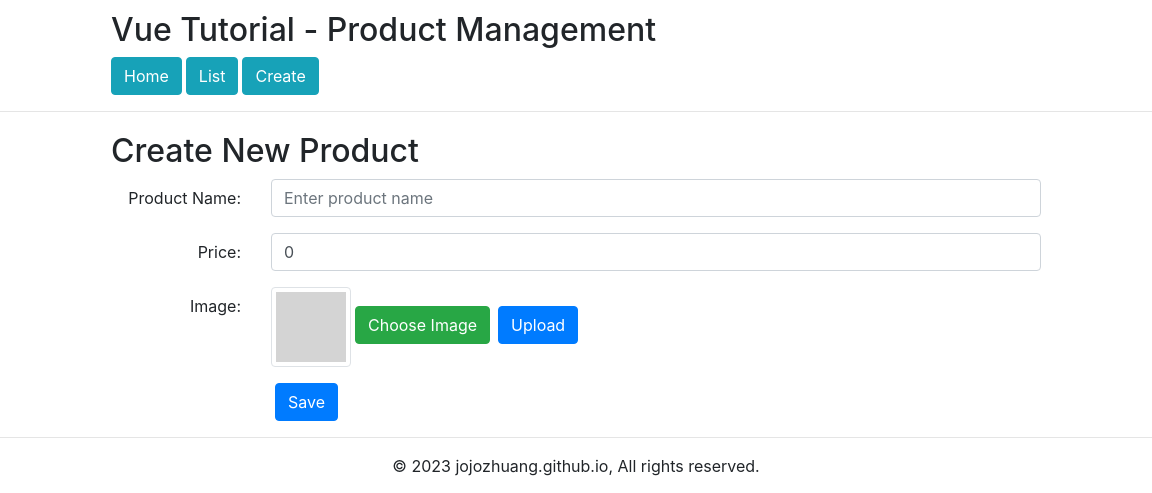
Test: Product Add › should navigate to home page
Click the link to "/" at (147, 76), box [111, 57, 182, 95]
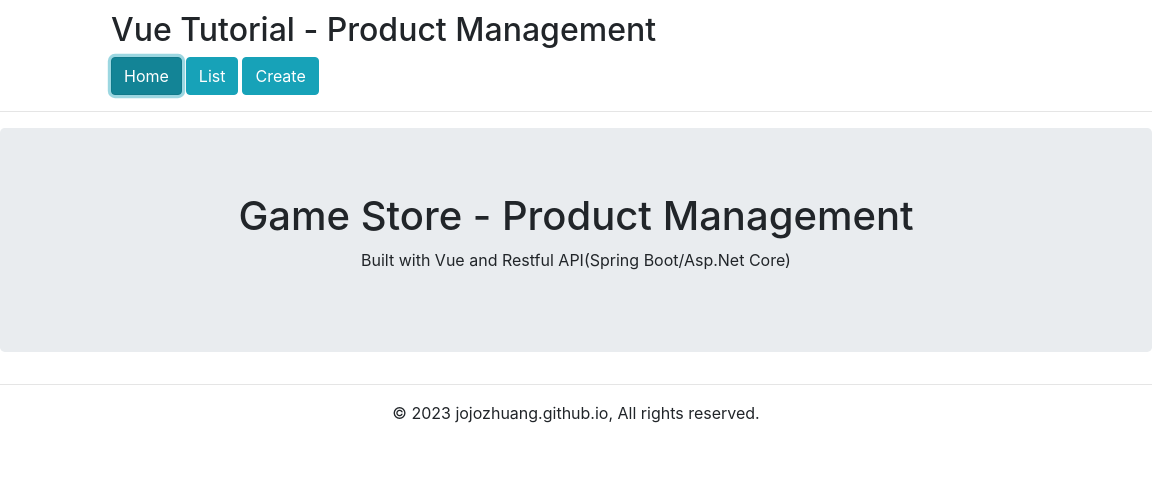
Check: the heading "Game Store - Product Management" is shown, box [238, 191, 914, 240]
